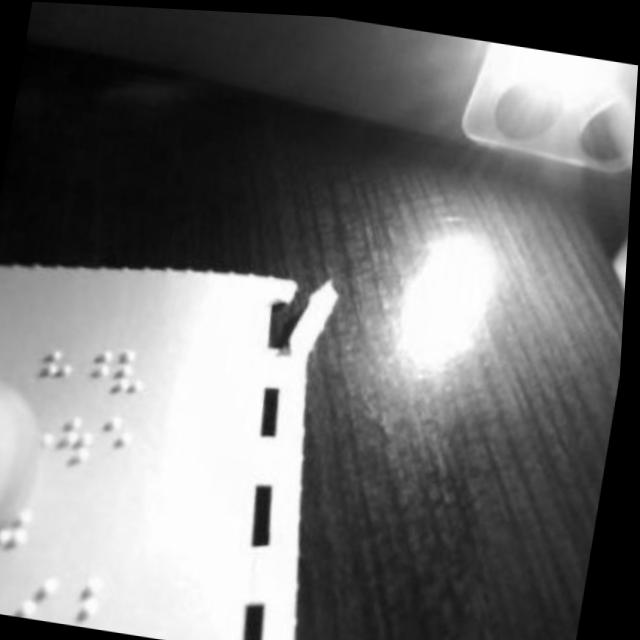braiile: (56, 409, 106, 489), (95, 411, 138, 484), (14, 567, 64, 621), (80, 339, 120, 402), (40, 343, 79, 405), (60, 574, 105, 627)
